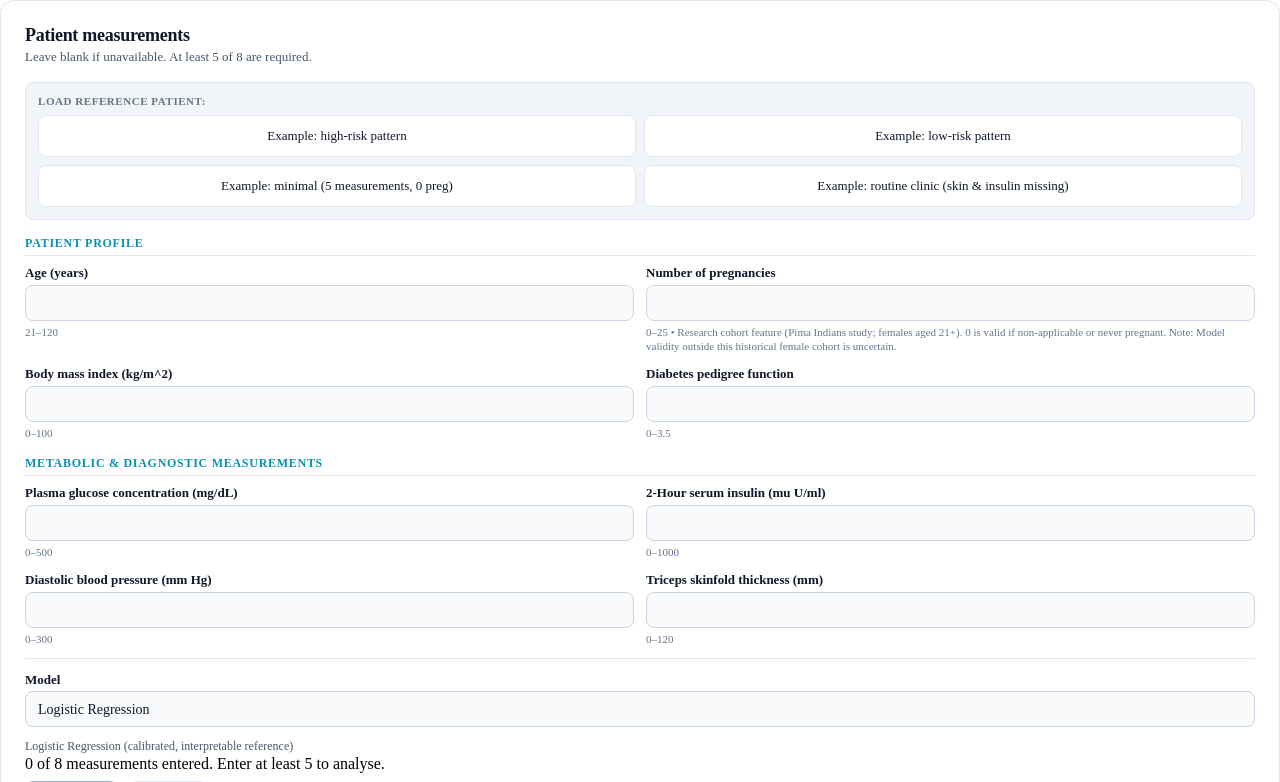
Test: PatientForm › keeps submit disabled while any value is invalid
Step 1. Click the button "Example: high-risk pattern" → (337, 136), box [38,115,636,157]
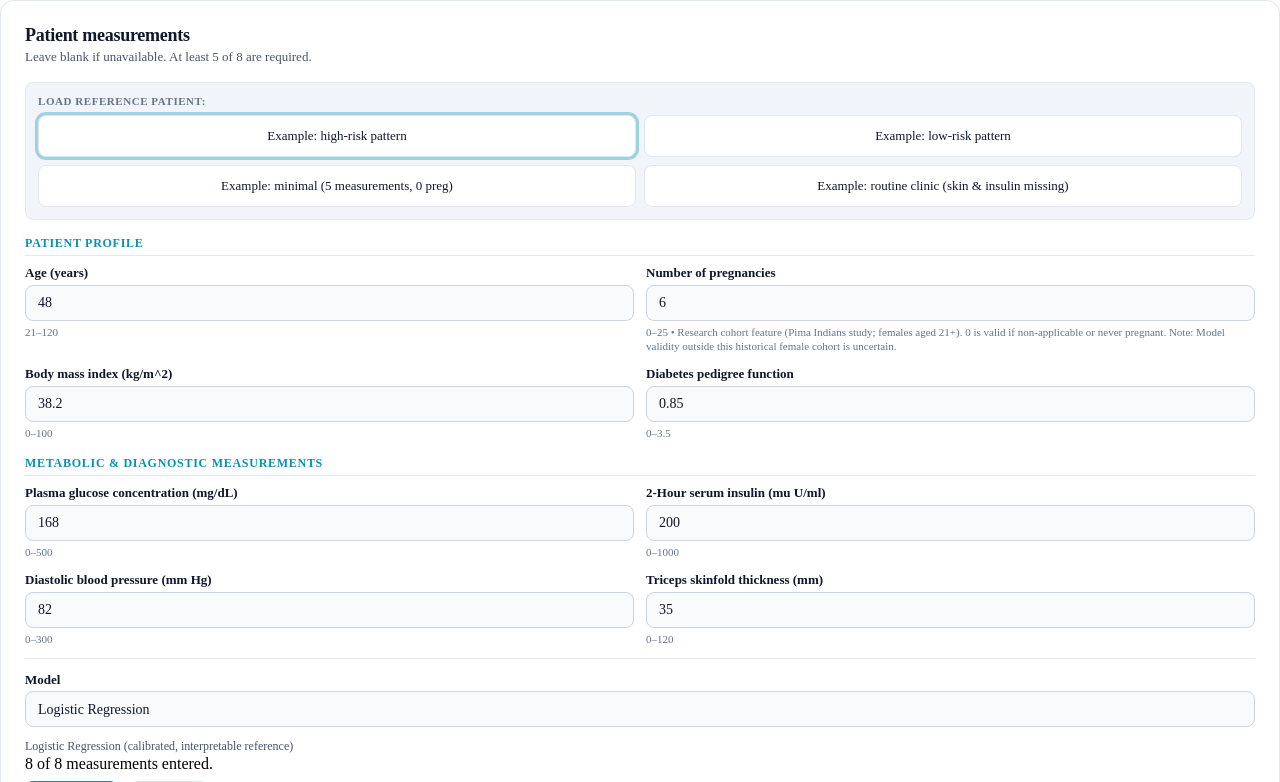
Step 2. Replace the text in the field labelled "Age (years)" with "15" → (330, 303), box [25,285,634,321]
(page scrolled)
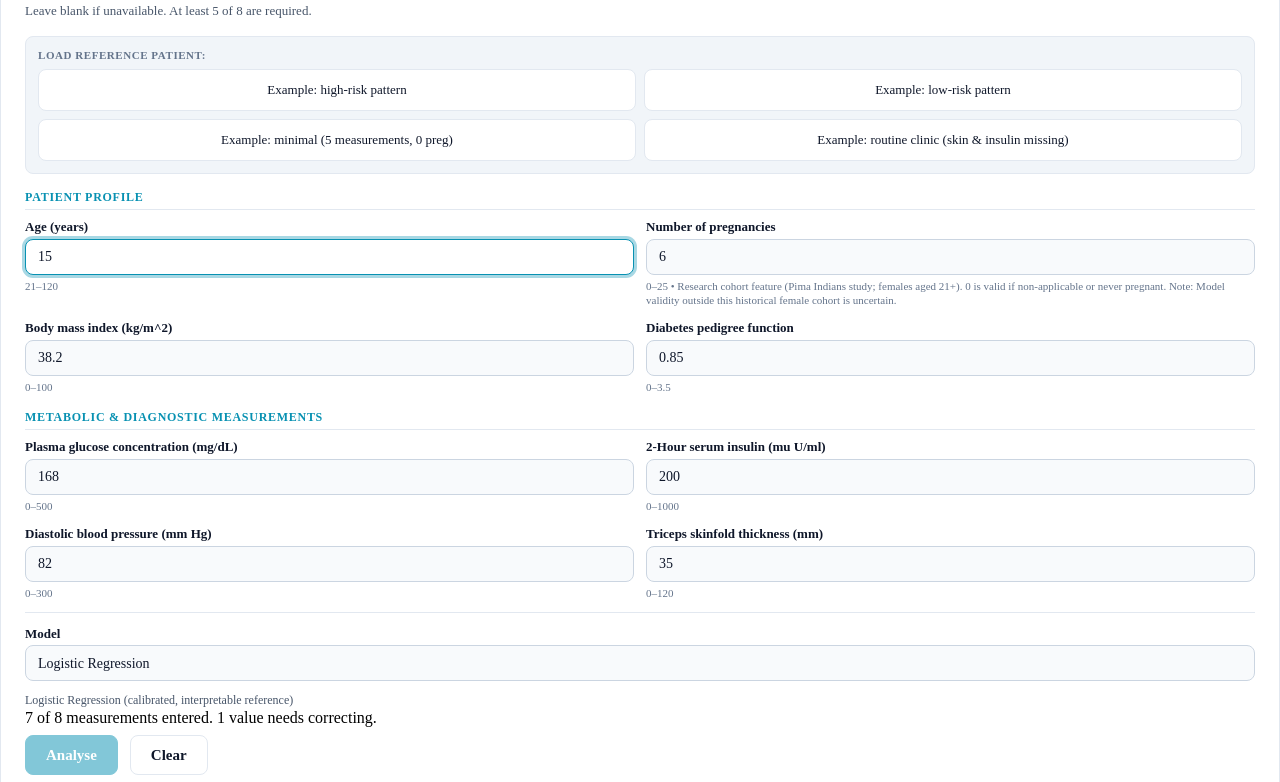
Result: the button "Analyse" is disabled at [25,735,118,775]
